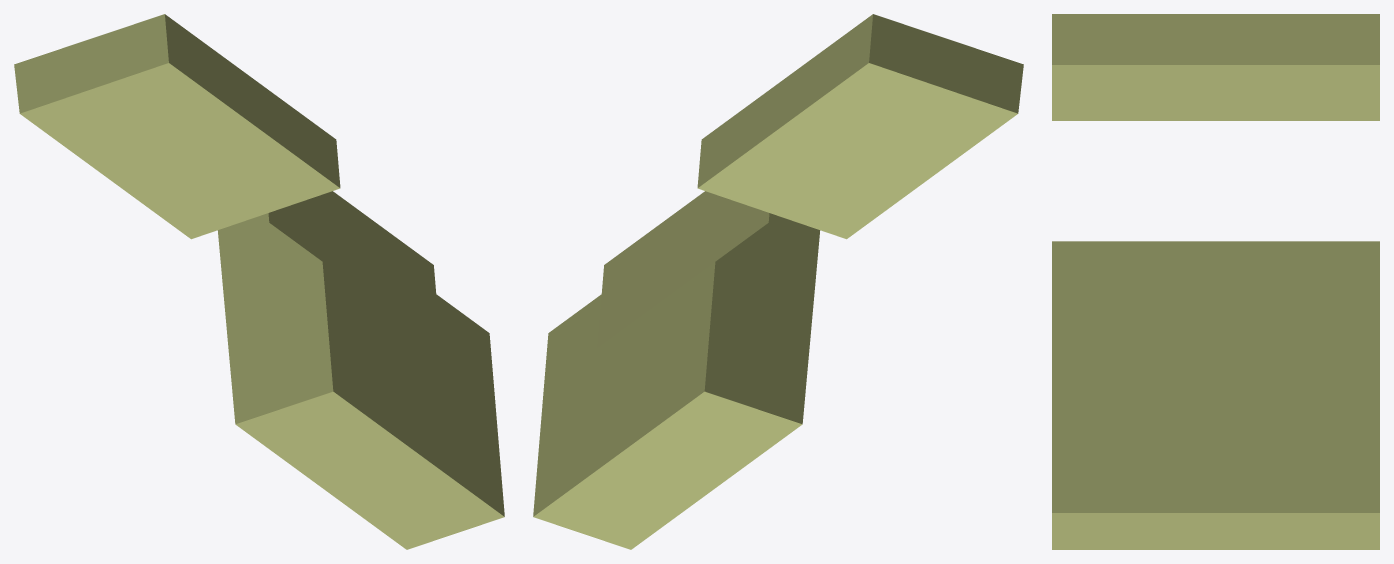
The picture shows the model from 3 angles, left to right: view 1: azimuth 30°, elevation 25°; view 2: azimuth 150°, elevation 25°; view 3: azimuth 270°, elevation 25°; orthographic projection. The views are drawn at different scales.
Visible parts, largest first — view 1: 0_2_3_3_3_1_0_2_0_0_0; view 2: 0_2_3_3_3_1_0_2_0_0_0; view 3: 0_2_3_3_3_1_0_2_0_0_0.
Boxes of the visible parts, box(x1,y1,x2,y2) form: 0_2_3_3_3_1_0_2_0_0_0: box(14, 14, 504, 549); 0_2_3_3_3_1_0_2_0_0_0: box(533, 14, 1023, 549); 0_2_3_3_3_1_0_2_0_0_0: box(1052, 14, 1379, 549).
Bounding box in the file's own units: 9.67 × 12.38 × 9.
